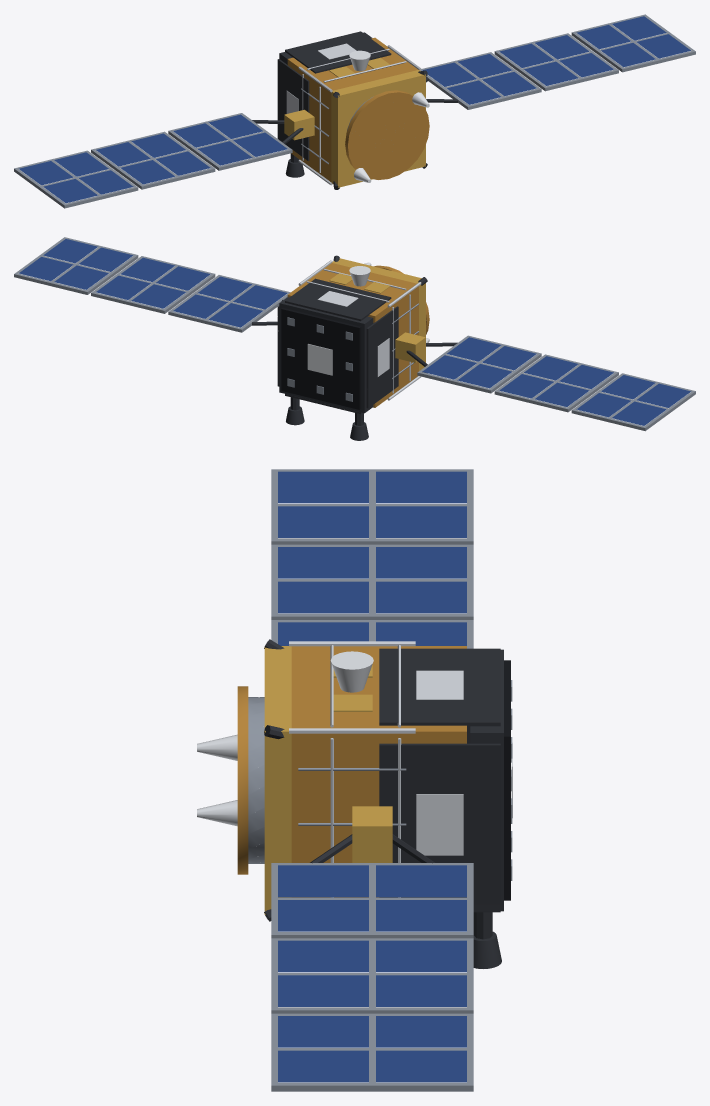
Rendered from dampe.glb.
3 renders of one model, top to bottom at view 1: azimuth 30°, elevation 25°; view 2: azimuth 150°, elevation 25°; view 3: azimuth 270°, elevation 25°, orthographic. The views are drawn at different scales.
Parts seen in each view (by area): view 1: solar-panel, body, foil; view 2: solar-panel, body, foil; view 3: solar-panel, body, foil.
Part boxes in pixels (bbox=[...]): solar-panel: bbox=[19, 16, 690, 203]; body: bbox=[14, 14, 695, 208]; foil: bbox=[284, 37, 425, 187]; solar-panel: bbox=[19, 239, 690, 425]; body: bbox=[14, 237, 695, 440]; foil: bbox=[287, 258, 425, 407]; solar-panel: bbox=[278, 471, 500, 1082]; body: bbox=[197, 469, 512, 1091]; foil: bbox=[264, 646, 466, 914].
Size of the model in its own units: 10.8 by 2.2 by 2.34.
